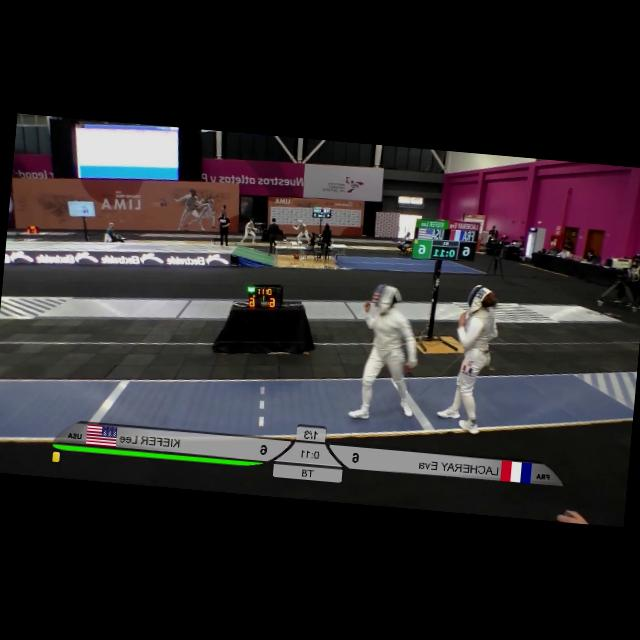blade: (407, 346, 462, 412)
